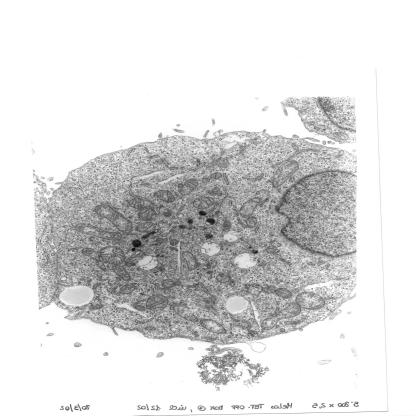mitochondria: (93, 205, 134, 233), (262, 302, 300, 330), (74, 222, 122, 240), (270, 160, 298, 187), (294, 292, 326, 310), (238, 197, 262, 219), (100, 246, 127, 265), (199, 319, 227, 334), (146, 294, 169, 312), (172, 307, 199, 322), (179, 179, 198, 196), (112, 265, 132, 281), (182, 252, 198, 271), (192, 197, 215, 209), (153, 190, 176, 202), (138, 208, 157, 221), (81, 249, 100, 260), (247, 283, 264, 295), (136, 223, 156, 233), (276, 288, 294, 299), (246, 215, 259, 229), (128, 198, 146, 208), (120, 284, 136, 294), (333, 132, 349, 140), (161, 279, 175, 288), (215, 275, 230, 283), (263, 285, 277, 293), (210, 186, 221, 196), (222, 221, 232, 232), (95, 262, 106, 271), (211, 172, 223, 179), (268, 245, 277, 254), (170, 239, 178, 247), (202, 178, 210, 183)
